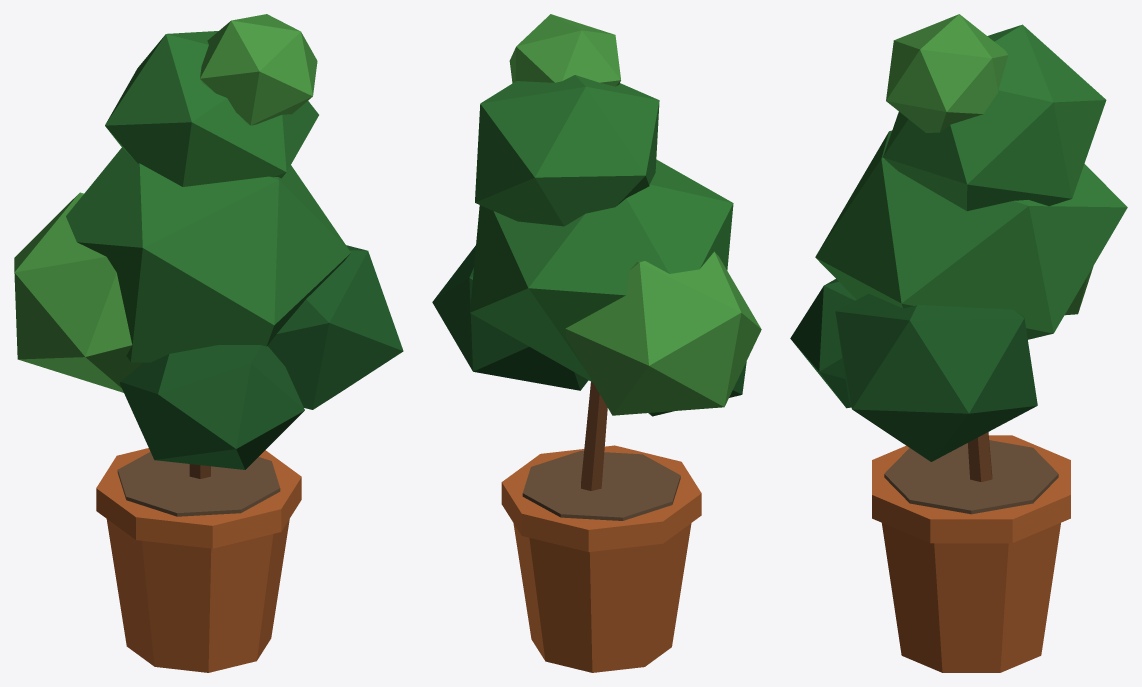
File: plant.glb
3 views of the same model, side by side, from view 1: azimuth 30°, elevation 25°; view 2: azimuth 150°, elevation 25°; view 3: azimuth 270°, elevation 25° (orthographic). The views are drawn at different scales.
Visible parts, largest first — view 1: plant; view 2: plant; view 3: plant.
Part boxes in pixels (x1=…): plant: x1=14, y1=14, x2=403, y2=672; plant: x1=432, y1=14, x2=761, y2=672; plant: x1=790, y1=14, x2=1127, y2=672.
Size of the model in its own units: 0.6994 by 1.22 by 0.5806.
